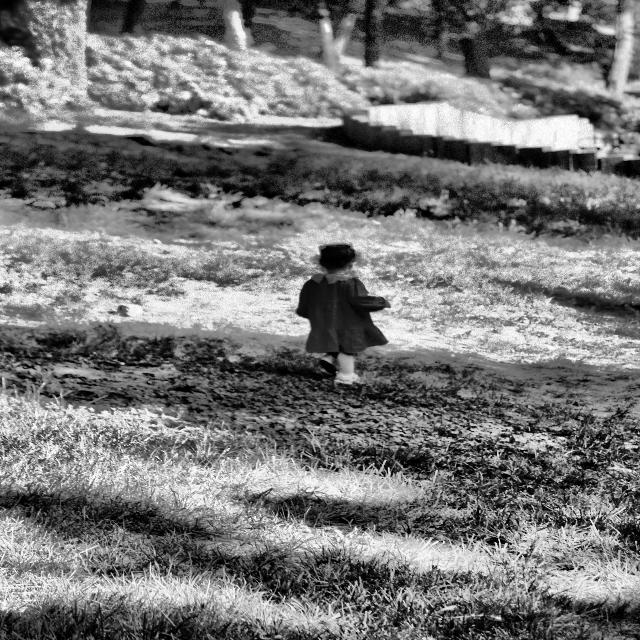Human: (262, 223, 401, 405)
